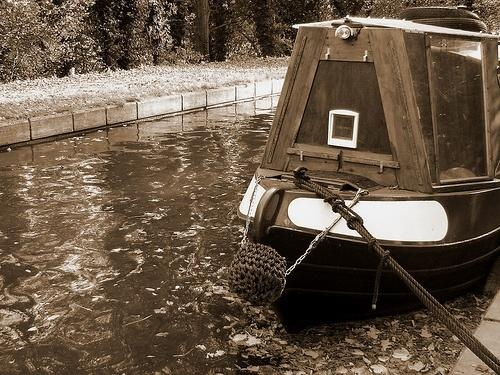boat: (227, 5, 500, 319)
